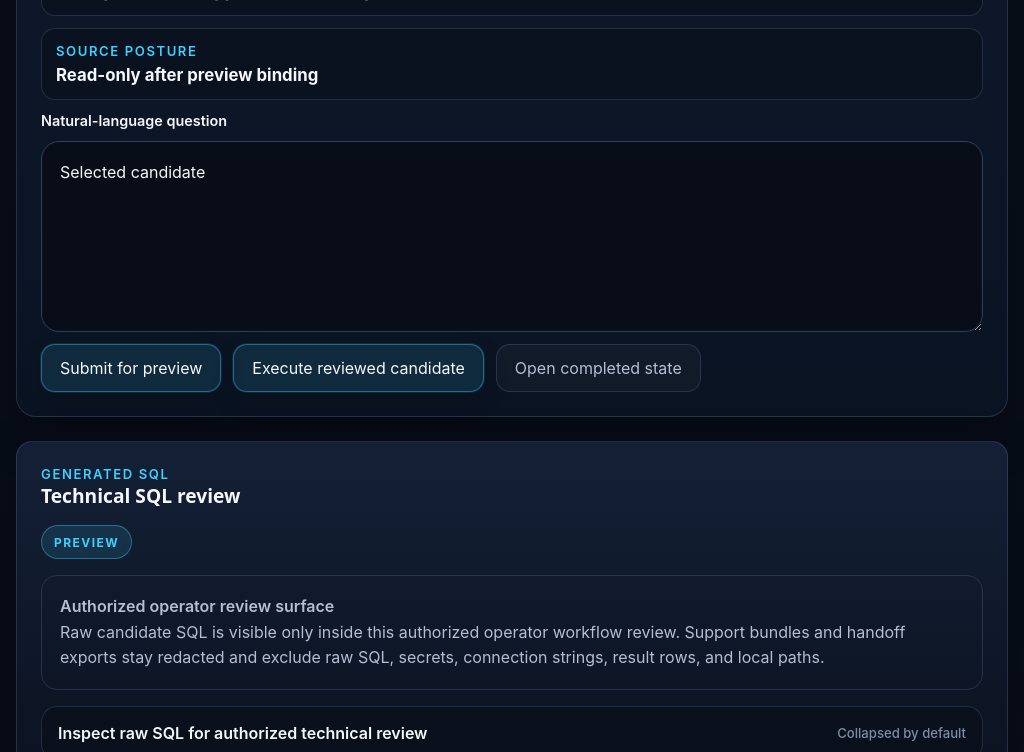
Test case: HomePage › renders truncated execute responses as bounded previews without requiring unbounded rows
(page scrolled)
Click the button "Execute reviewed candidate" at (359, 368), box [233,344,484,392]
(page scrolled)
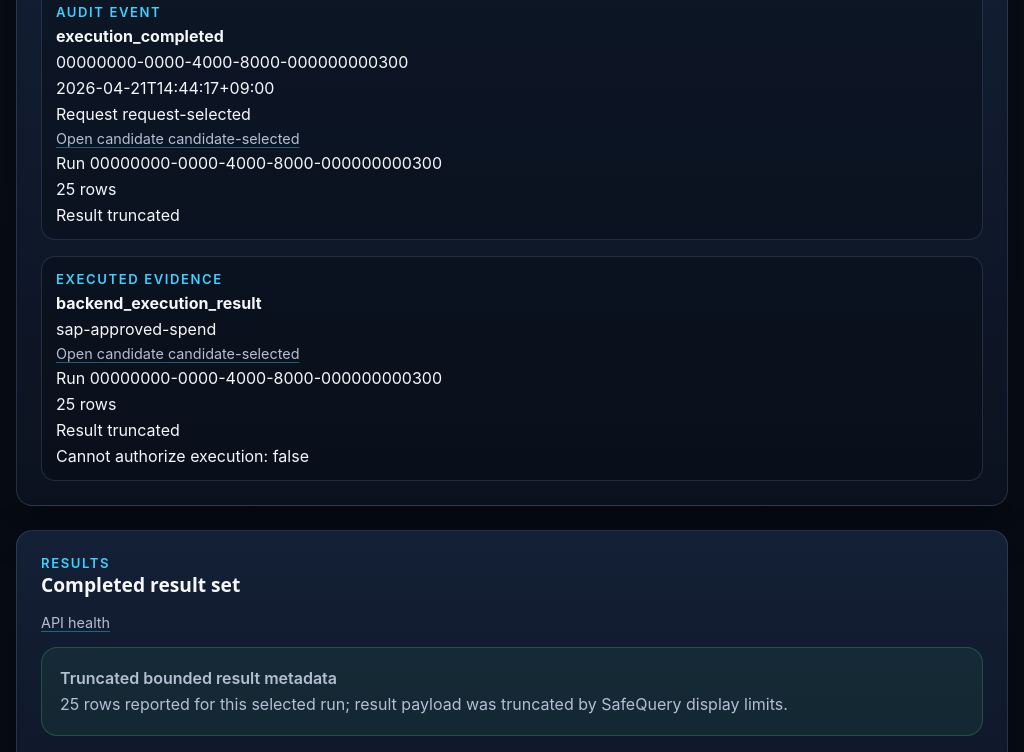
expect the text "Truncated bounded result metadata" is shown: met, box [60,668,337,688]
expect the text "25 rows reported for this selected run" is shown: met, box [60,694,788,714]
expect the element labelled "Executed evidence" shows "Result truncated": met, box [56,420,180,440]
